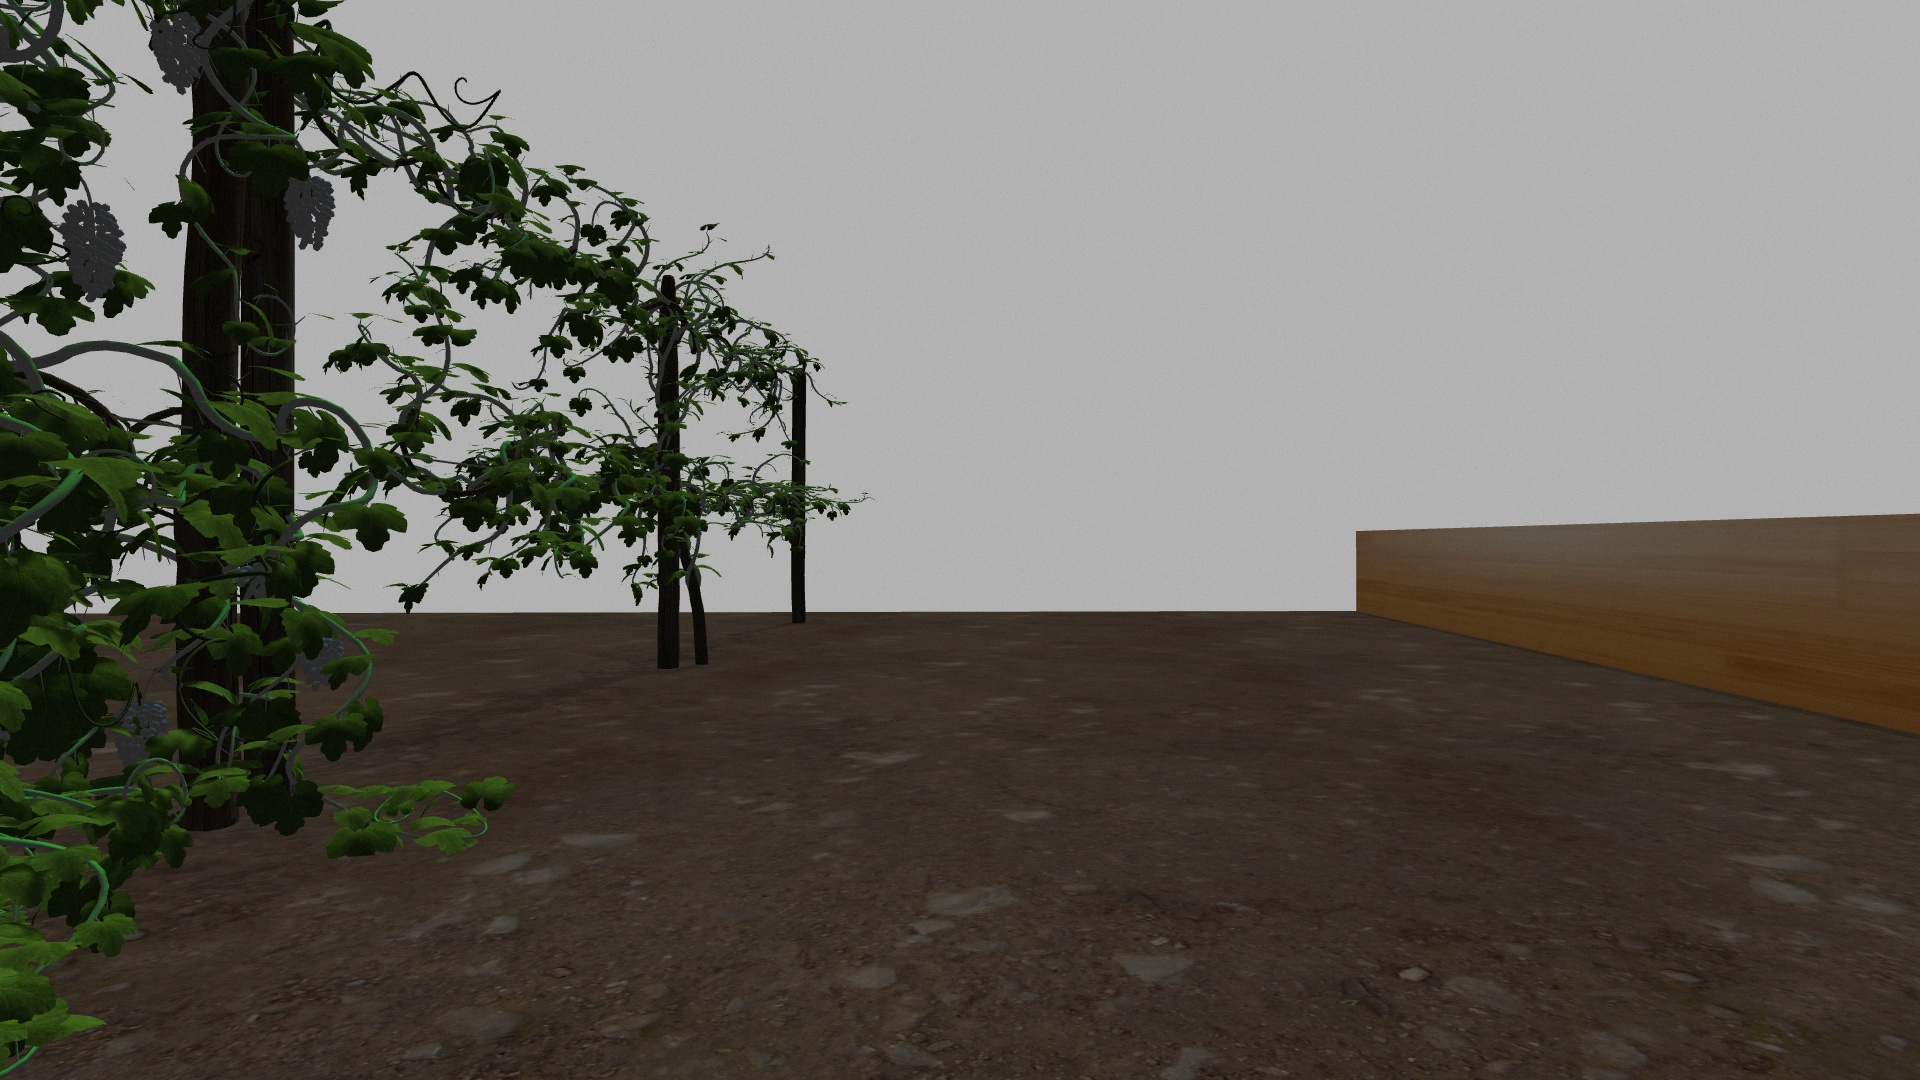grape: (61, 200, 127, 305), (148, 9, 208, 95), (111, 698, 169, 771), (282, 175, 336, 251), (299, 636, 347, 691)
